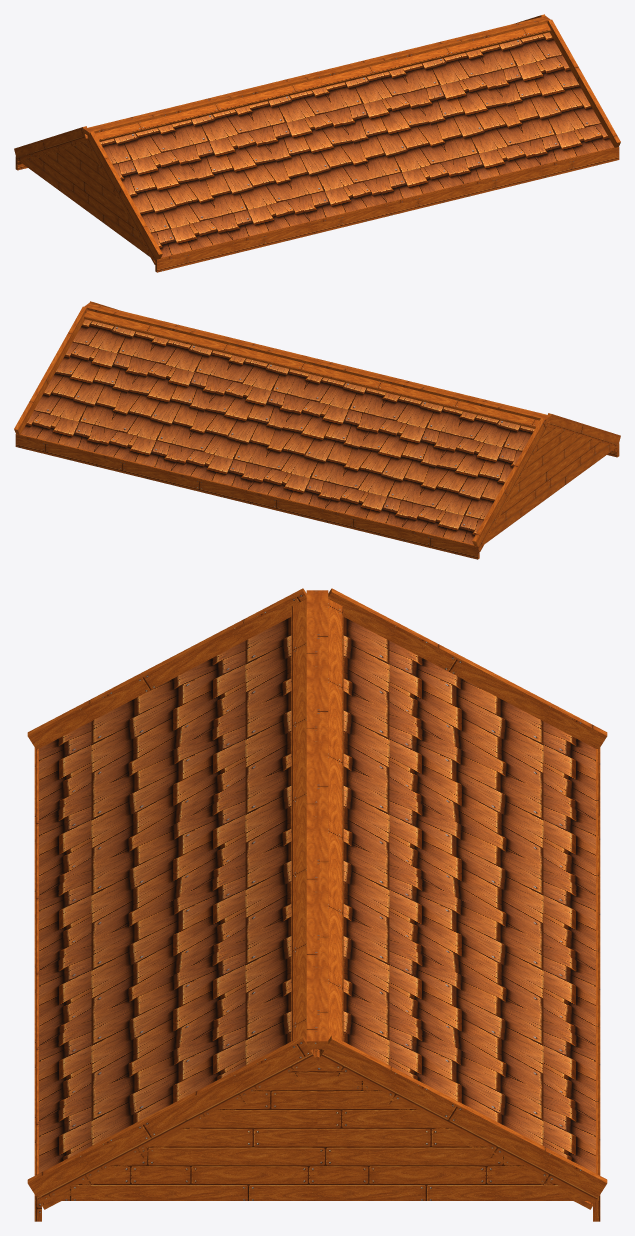
The model's file is Roof_Gable_3x6_NoEave.fbx.
The picture shows the model from 3 angles, top to bottom: view 1: azimuth 30°, elevation 25°; view 2: azimuth 150°, elevation 25°; view 3: azimuth 270°, elevation 25°; orthographic projection. The views are drawn at different scales.
Parts seen in each view (by area): view 1: Roof_Gable_3x6_NoEave; view 2: Roof_Gable_3x6_NoEave; view 3: Roof_Gable_3x6_NoEave.
Boxes of the visible parts, left/top/right/bottom form: Roof_Gable_3x6_NoEave: left=14, top=14, right=620, bottom=272; Roof_Gable_3x6_NoEave: left=14, top=301, right=620, bottom=559; Roof_Gable_3x6_NoEave: left=27, top=588, right=607, bottom=1221.
Bounding box in the file's own units: 6 × 1.13 × 3.26.
